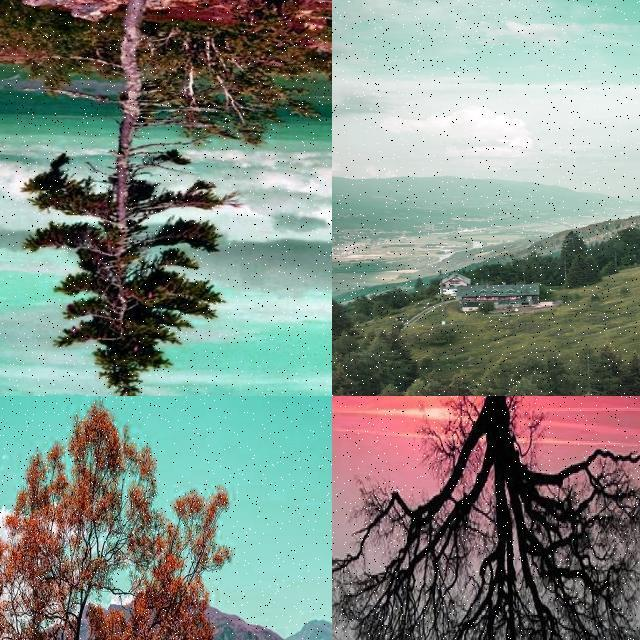tree: (16, 0, 220, 396), (332, 396, 640, 640), (0, 404, 286, 640), (332, 348, 354, 392)
